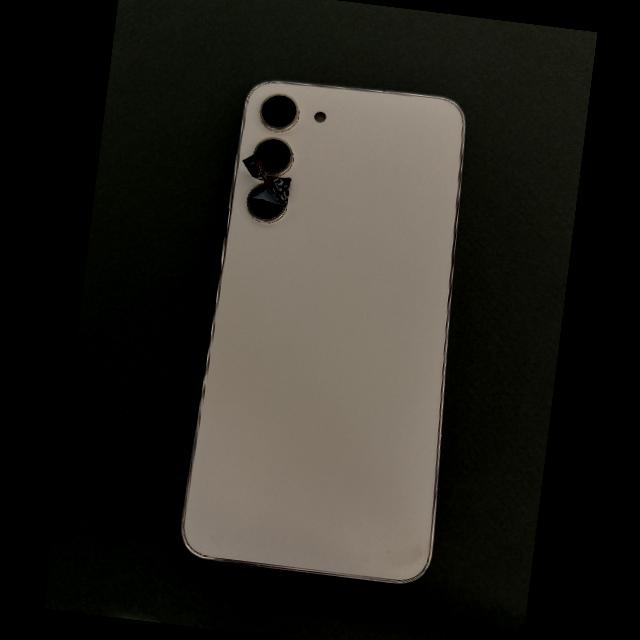lens: (261, 94, 298, 131), (255, 139, 293, 174), (249, 206, 287, 222)
phone: (182, 82, 463, 582)
sticker: (242, 153, 291, 211)
